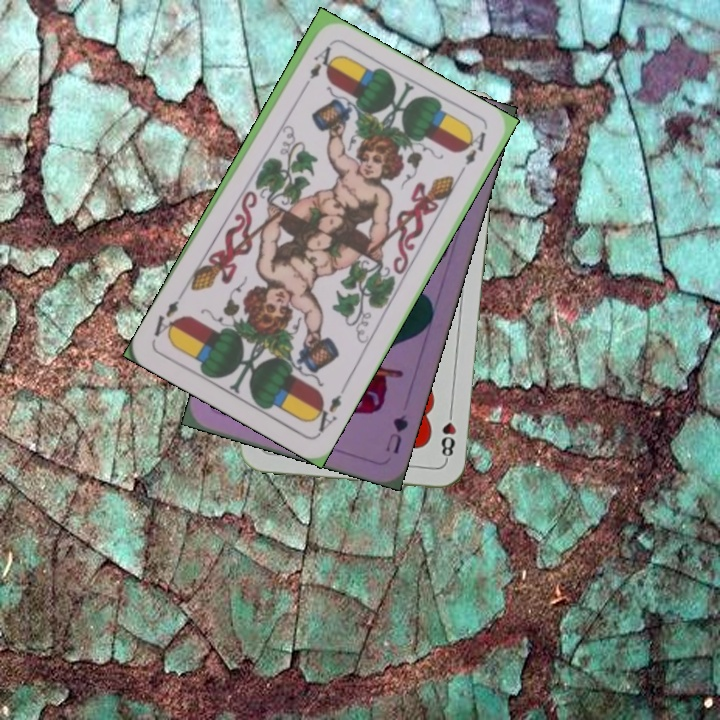EA: (307, 383, 349, 437), (297, 42, 334, 94)
GU: (381, 410, 411, 457)
H8: (437, 404, 459, 464)
